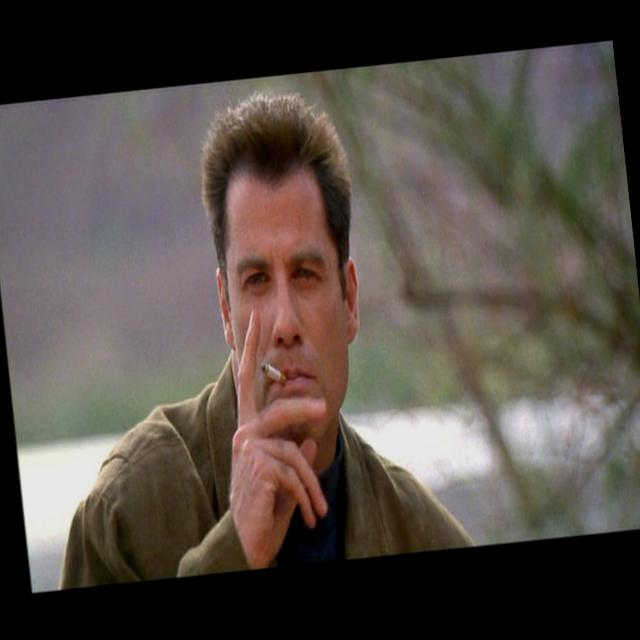cigarette: (252, 348, 324, 400)
